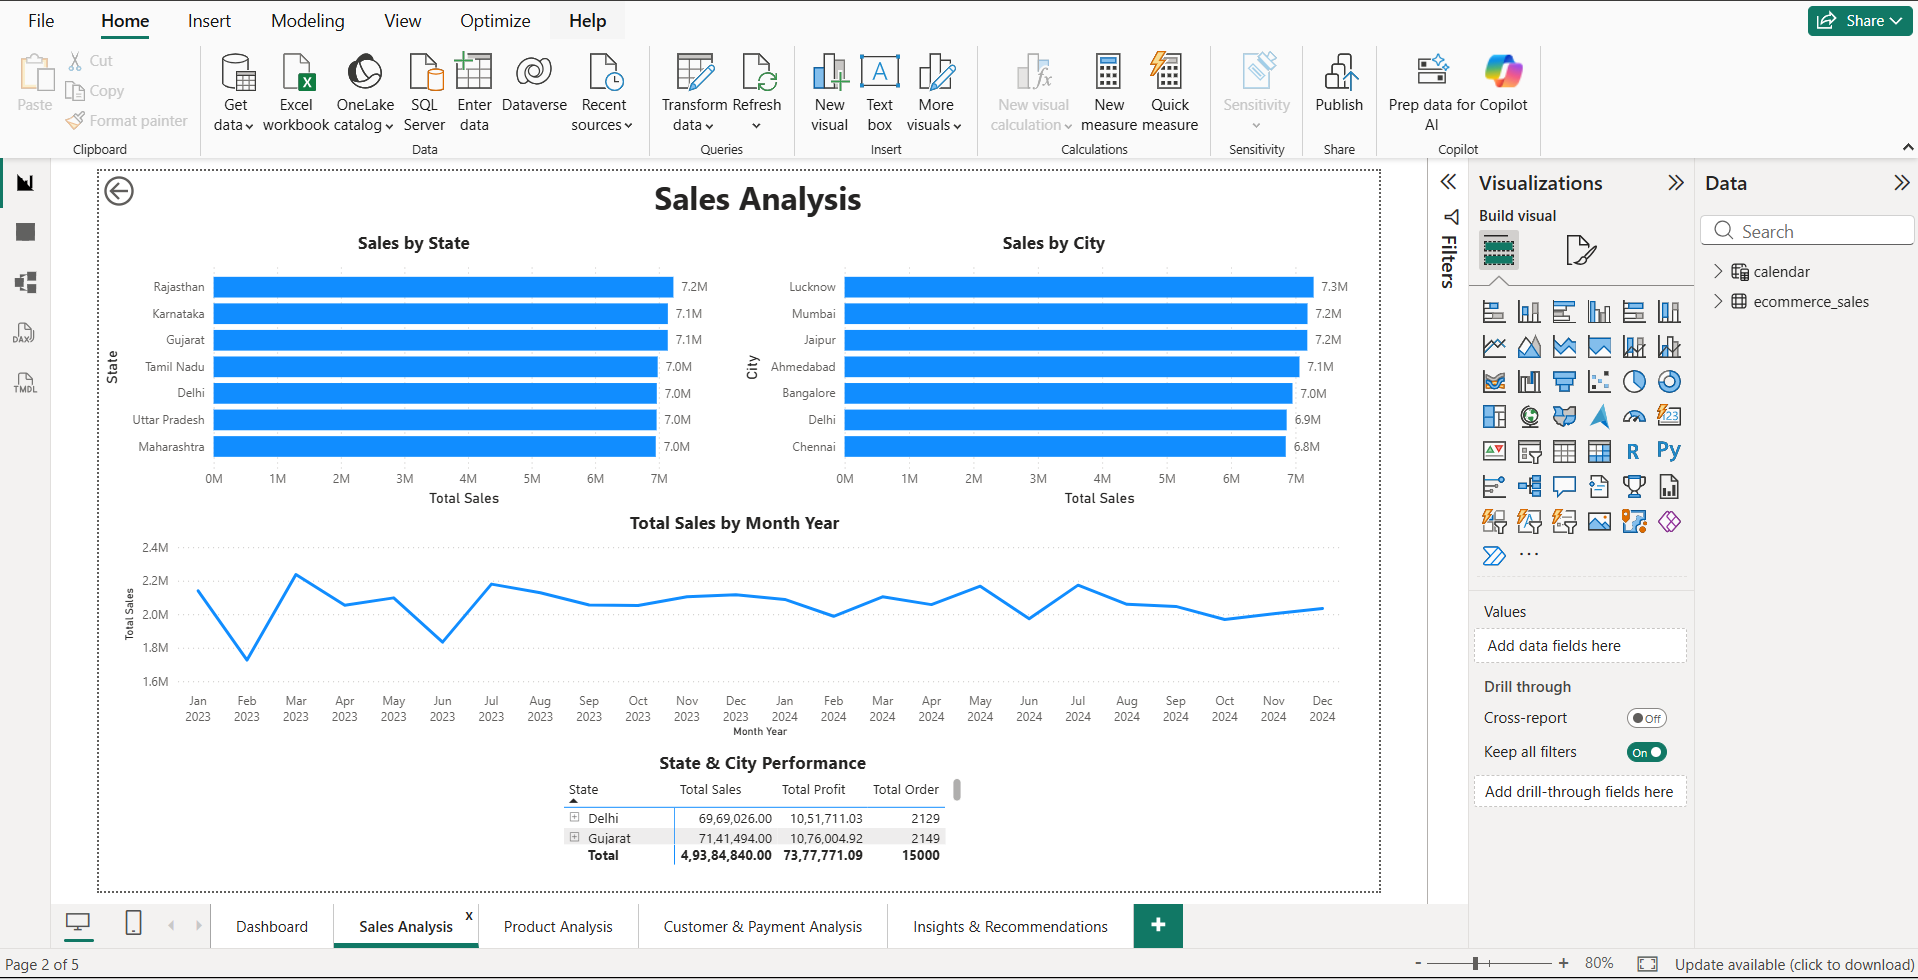

What the dashboard file says about the page in this screenshot:
{"tool":"powerbi","page":{"name":"Sales Analysis","canvas":[1280,720],"ordinal":1},"visuals":[{"type":"barChart","title":"Sales by State","fields":{"Category":["ecommerce_sales.State"],"Y":["ecommerce_sales.Total Sales"]},"box":[0,60,630,280],"z":0},{"type":"barChart","title":"Sales by City","fields":{"Y":["ecommerce_sales.Total Sales"],"Category":["ecommerce_sales.City"]},"box":[640,60,630,280],"z":1000},{"type":"actionButton","box":[0,0,100,40],"z":2000},{"type":"lineChart","fields":{"Category":["calendar.Month Year"],"Y":["ecommerce_sales.Total Sales"]},"box":[20,340,1231.2,231.2],"z":3000},{"type":"textbox","box":[66.2,0,1185,60],"z":4000},{"type":"pivotTable","title":"State & City Performance","fields":{"Rows":["ecommerce_sales.State","ecommerce_sales.City"],"Values":["ecommerce_sales.Total Sales","ecommerce_sales.Total Profit","ecommerce_sales.Total Order"]},"box":[460,580,407.5,118.8],"z":5000}]}

Visuals, with their boxes on the page's 1280x720 design canvas (x1, y1, x2, y2). These are canvas units, not pixel positions in the 1918x980 screenshot, which may show the page scaled, cropped or inside an application window:
"Sales by State" barChart: pyautogui.locateOnScreen(0, 60, 630, 340)
"Sales by City" barChart: pyautogui.locateOnScreen(640, 60, 1270, 340)
actionButton: pyautogui.locateOnScreen(0, 0, 100, 40)
lineChart - calendar.Month Year x ecommerce_sales.Total Sales: pyautogui.locateOnScreen(20, 340, 1251, 571)
textbox: pyautogui.locateOnScreen(66, 0, 1251, 60)
"State & City Performance" pivotTable: pyautogui.locateOnScreen(460, 580, 868, 699)
